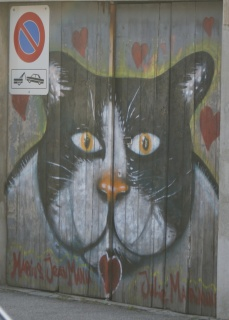Cat: (2, 50, 218, 316)
